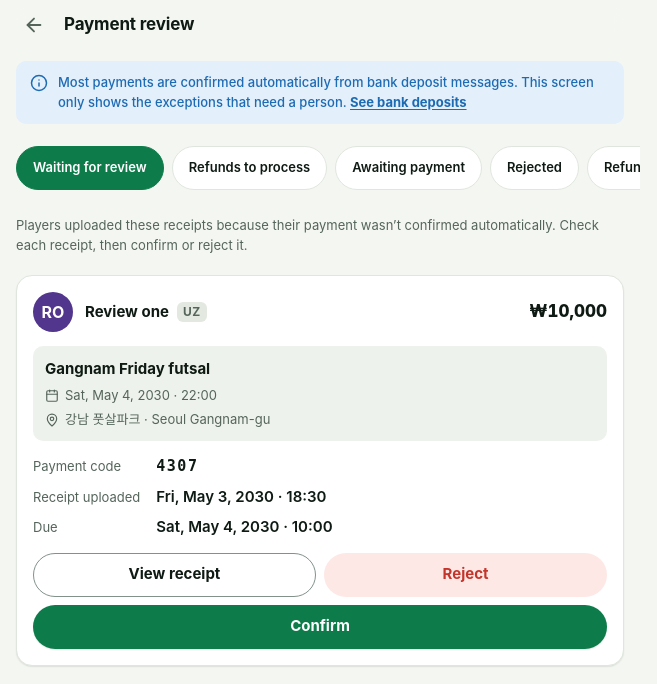
payment review: the queue › switches queues with the chips, asking the API for each status
The width and height of the screenshot is (657, 684).
Expected: the element "Review one" is shown, [16, 275, 624, 666]
Click the button "Refunds to process": (249, 168) [172, 146, 327, 190]
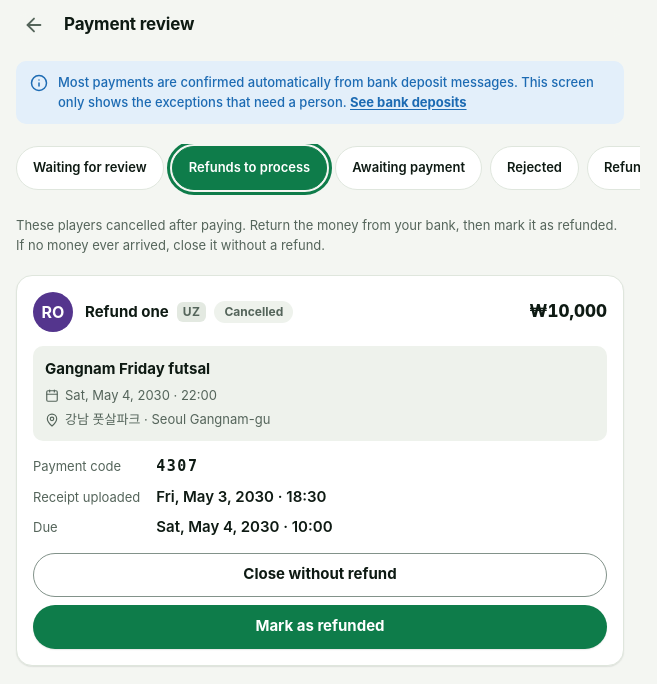
Result: the element "Refund one" is shown at [16, 275, 624, 666]
Result: the text "Review one" is gone
Click the button "Awaiting payment": (409, 168) [335, 146, 482, 190]
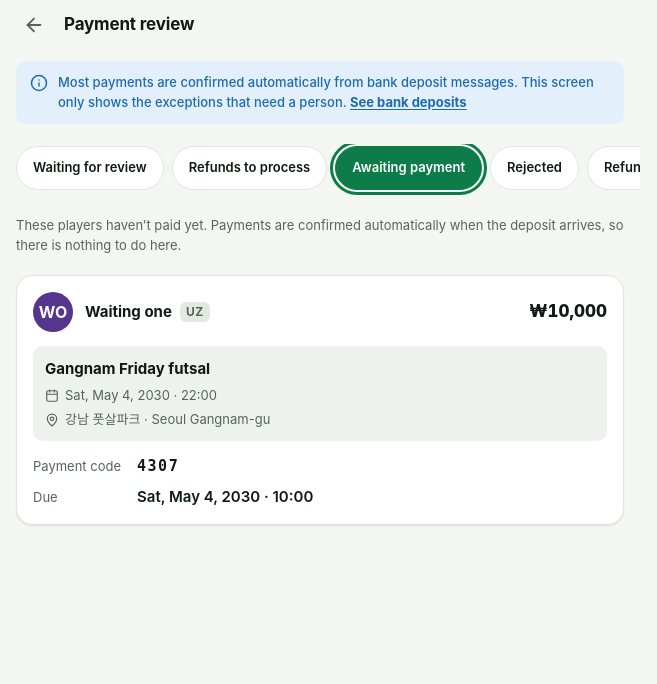
Result: the button "Close without refund" is gone
Result: the text "Receipt uploaded" is gone
Result: the text "so there is nothing to do here" is shown at [16, 217, 624, 252]
